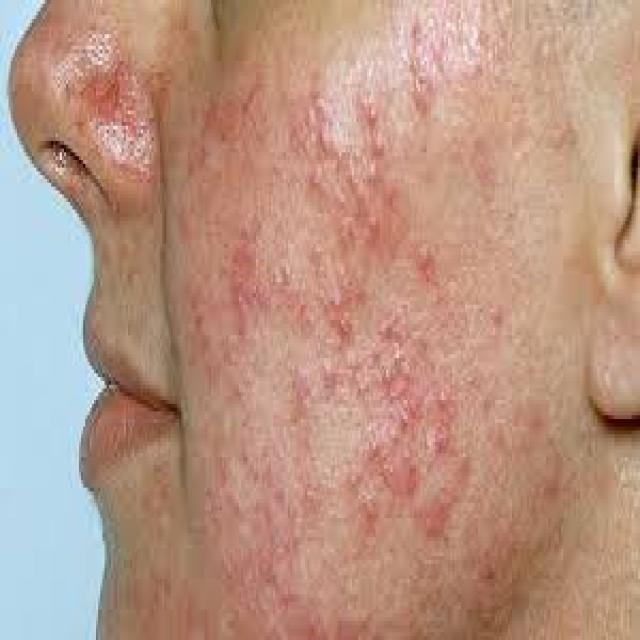burn: (9, 0, 562, 636)
